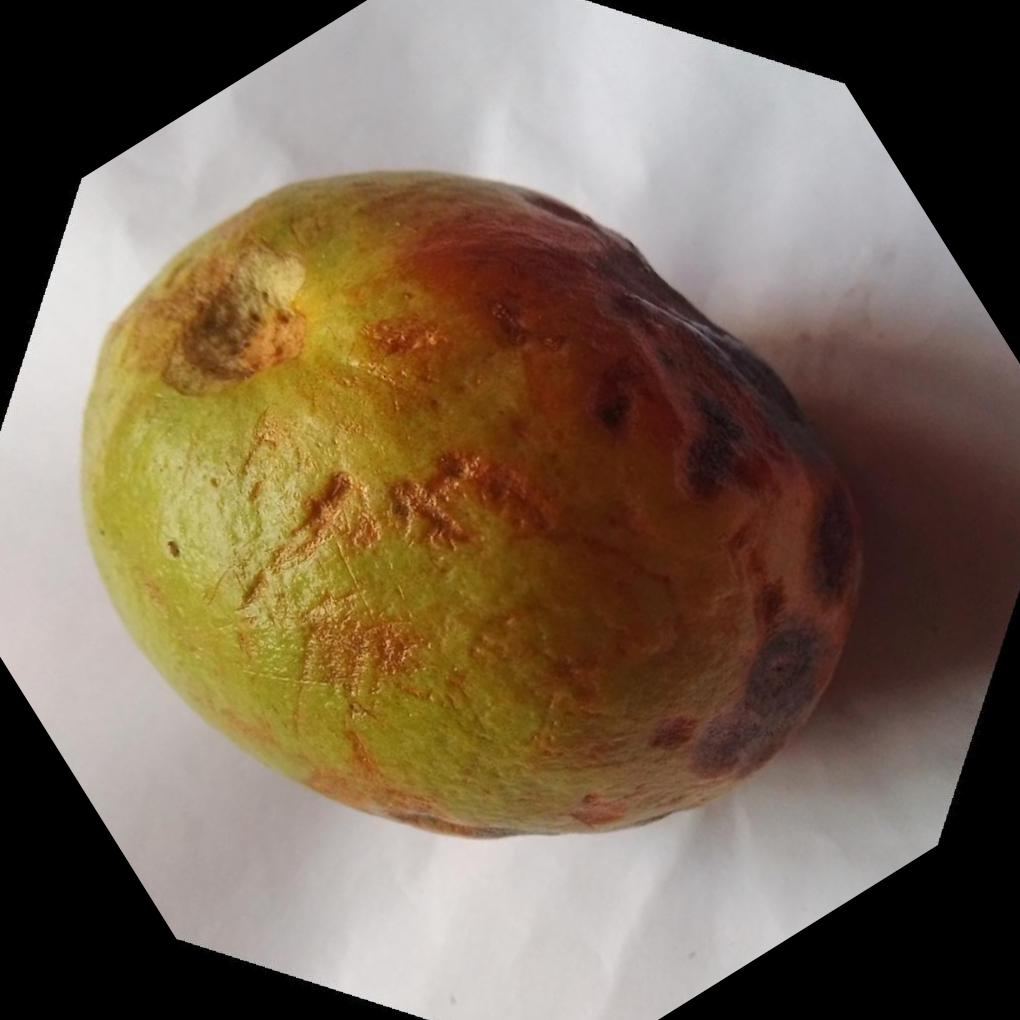FreshOrange: (79, 166, 872, 837)
